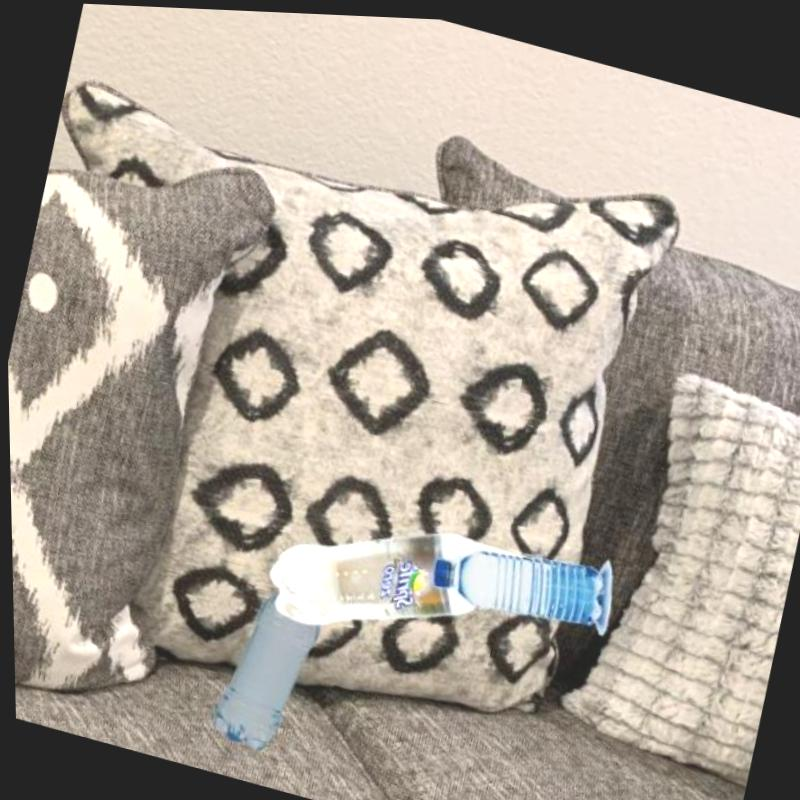botella: (255, 483, 549, 681), (202, 579, 323, 756), (425, 520, 607, 632)
